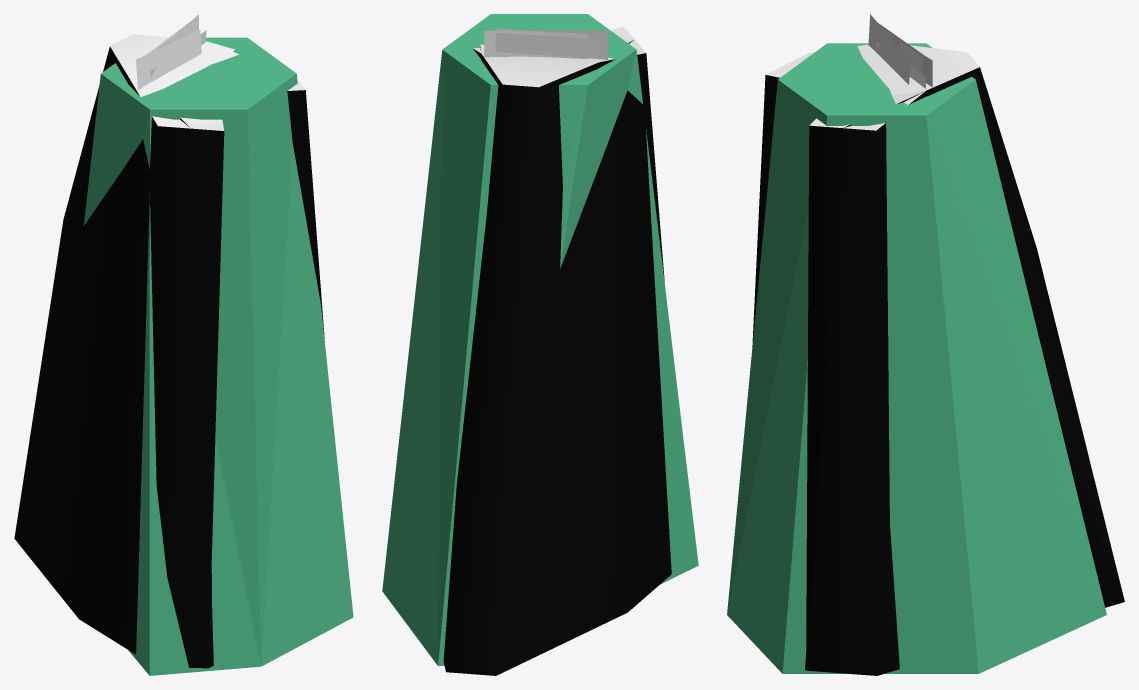
The model's file is tree_oak_chopped_b.dae.
The picture shows the model from 3 angles, left to right: view 1: azimuth 30°, elevation 25°; view 2: azimuth 150°, elevation 25°; view 3: azimuth 270°, elevation 25°; orthographic projection.
Parts seen in each view (by area): view 1: tree_oak_large_c180, Colmesh-1, tree_oak_large_c100; view 2: tree_oak_large_c180, Colmesh-1, tree_oak_large_c100; view 3: Colmesh-1, tree_oak_large_c180, tree_oak_large_c100.
Part boxes in pixels (left/top/right/bottom): tree_oak_large_c180: left=14, top=14, right=324, bottom=668; Colmesh-1: left=84, top=37, right=353, bottom=675; tree_oak_large_c100: left=180, top=42, right=239, bottom=667; tree_oak_large_c180: left=446, top=26, right=671, bottom=675; Colmesh-1: left=382, top=14, right=698, bottom=666; tree_oak_large_c100: left=443, top=39, right=634, bottom=671; Colmesh-1: left=727, top=43, right=1106, bottom=673; tree_oak_large_c180: left=752, top=14, right=1124, bottom=675; tree_oak_large_c100: left=787, top=63, right=1124, bottom=675.
Size of the model in its own units: 0.8003 by 1.21 by 1.92.
